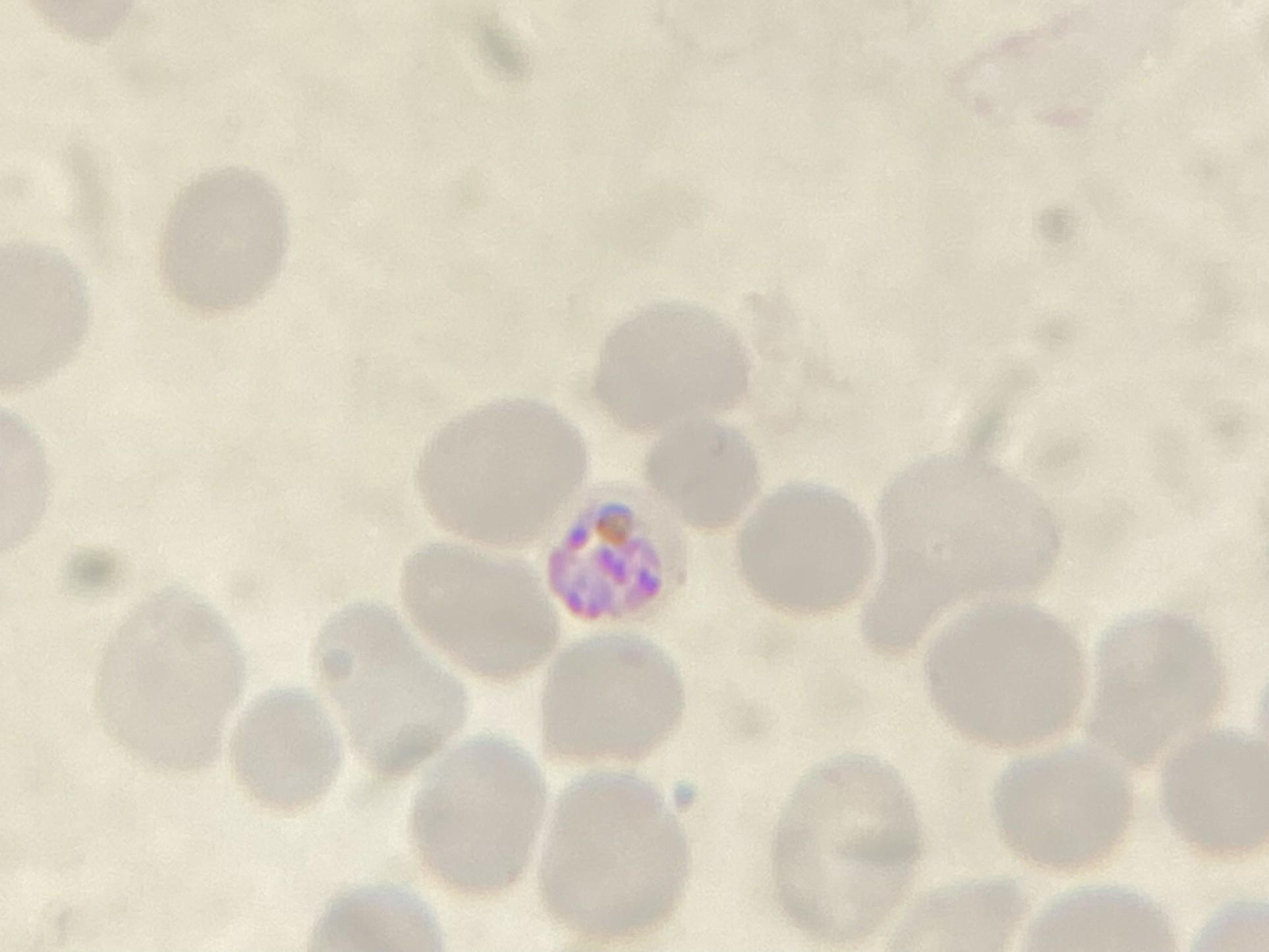Infected: (534, 479, 696, 633)
Uninfected: (861, 449, 1068, 655), (771, 747, 930, 944), (307, 596, 471, 775), (94, 583, 244, 771), (419, 394, 582, 551), (542, 763, 685, 932), (404, 539, 566, 686), (922, 600, 1092, 740), (1083, 609, 1226, 763), (417, 725, 542, 897), (593, 306, 747, 442), (154, 172, 291, 317), (734, 477, 872, 609), (547, 638, 684, 768), (995, 752, 1130, 867), (1166, 721, 1269, 863), (231, 688, 345, 813), (644, 411, 762, 527)
